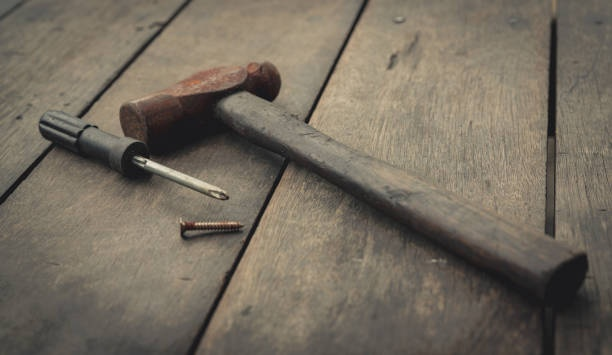hammer: (118, 56, 590, 294)
screwdriver: (37, 106, 231, 203)
